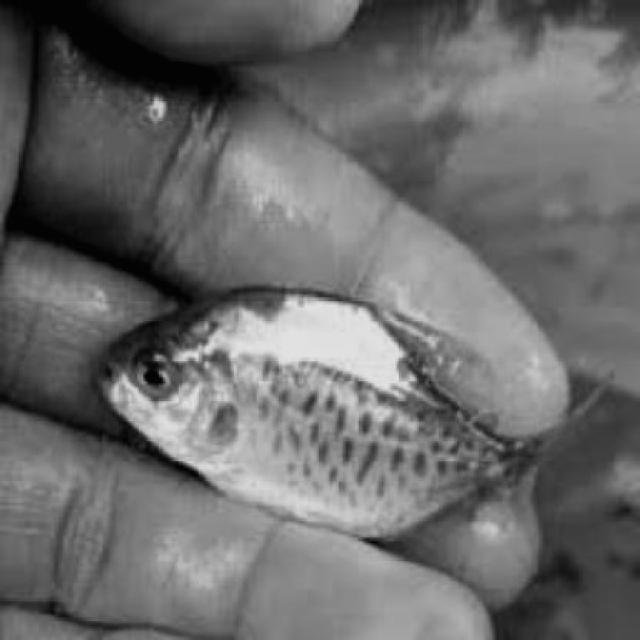ikan-pacu: (98, 282, 512, 544)
